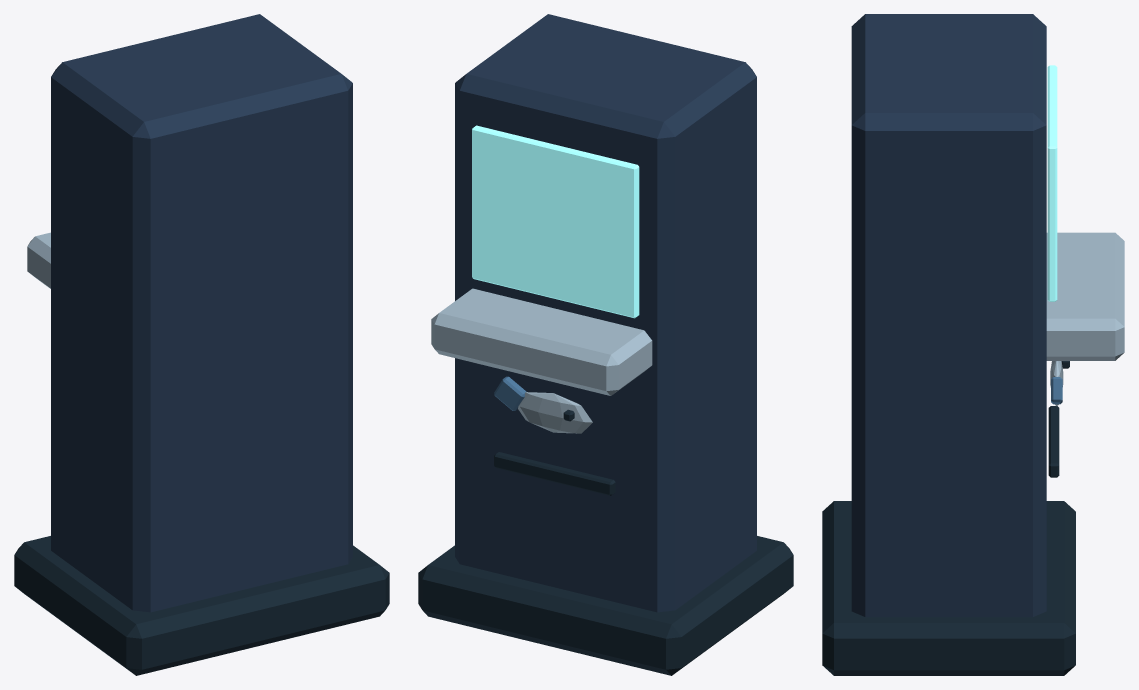
The model's file is terminal.glb.
3 renders of one model, left to right at view 1: azimuth 30°, elevation 25°; view 2: azimuth 150°, elevation 25°; view 3: azimuth 270°, elevation 25°, orthographic. The views are drawn at different scales.
Visible parts, largest first — view 1: body, base, console; view 2: body, screen, base, console, whale_badge, slot, tail_left; view 3: body, base, console, screen, slot.
Part boxes in pixels (left/top/right/bottom): body: left=51, top=14, right=352, bottom=612; base: left=14, top=536, right=389, bottom=675; console: left=27, top=232, right=50, bottom=288; body: left=455, top=14, right=756, bottom=612; screen: left=472, top=125, right=639, bottom=318; base: left=418, top=536, right=793, bottom=675; console: left=431, top=288, right=652, bottom=395; whale_badge: left=518, top=392, right=592, bottom=433; slot: left=494, top=452, right=615, bottom=495; tail_left: left=494, top=376, right=526, bottom=410; body: left=851, top=14, right=1046, bottom=617; base: left=822, top=501, right=1075, bottom=675; console: left=1046, top=232, right=1124, bottom=360; screen: left=1047, top=65, right=1057, bottom=301; slot: left=1048, top=406, right=1059, bottom=477.
Size of the model in its own units: 0.8 by 1.56 by 0.775.
